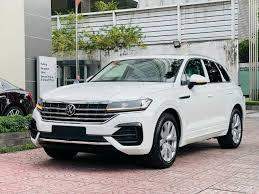volkswagen: (64, 99, 77, 117)
